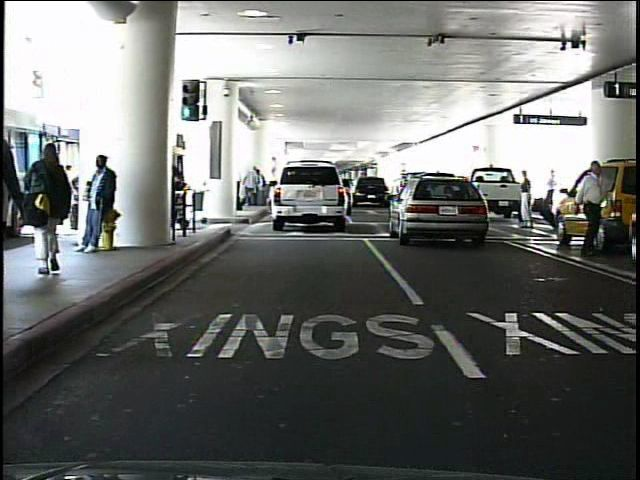person: (25, 140, 75, 274), (83, 150, 120, 254), (577, 157, 612, 260), (516, 170, 536, 231), (549, 168, 559, 211)
